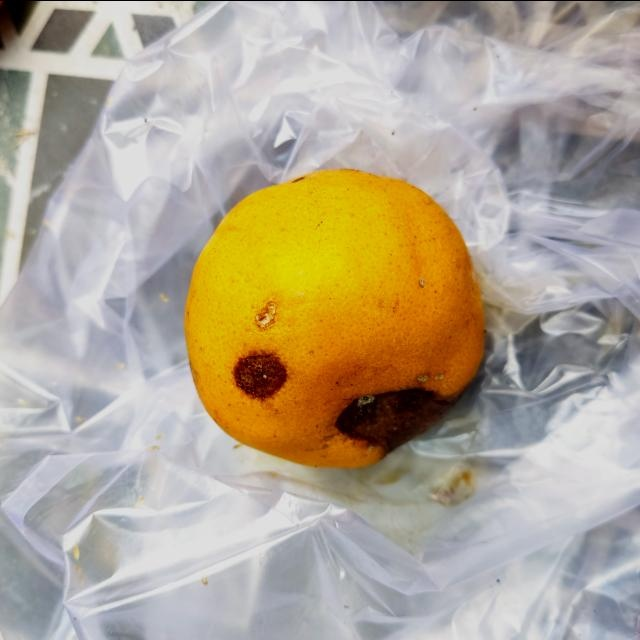agrume: (180, 160, 488, 472)
